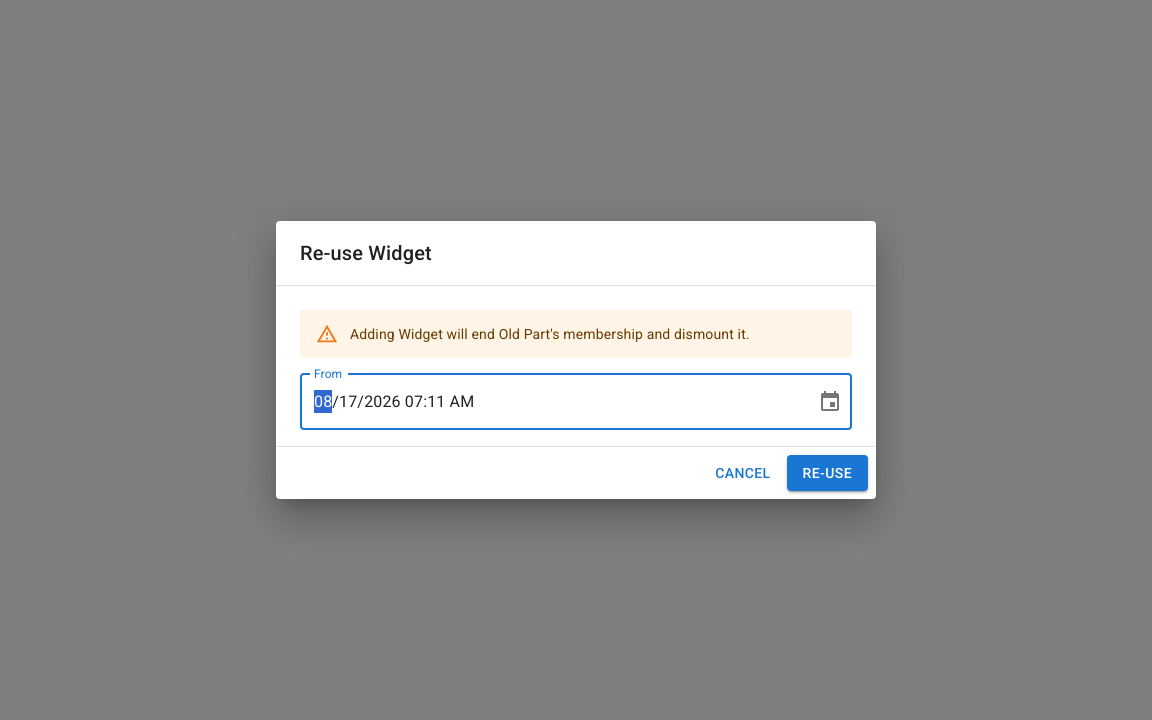
Scenario: ReuseMemberDialog › shows a tailored inline error on SLOT_UNMOUNTABLE
This screenshot has width=1152, height=720.
Click the button "Re-use". click: (827, 473)
box: [787,455,868,491]
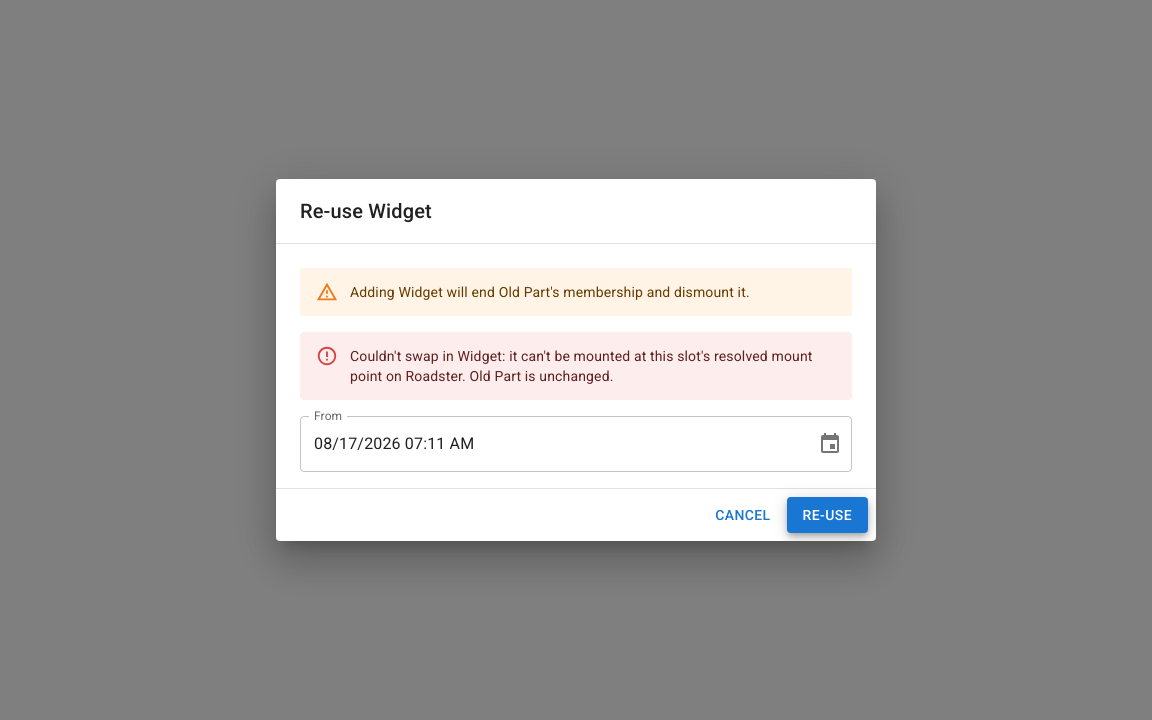
expect the text "can't be mounted at this slot's resolved mount point" is shown: met, box [350,348,812,384]
